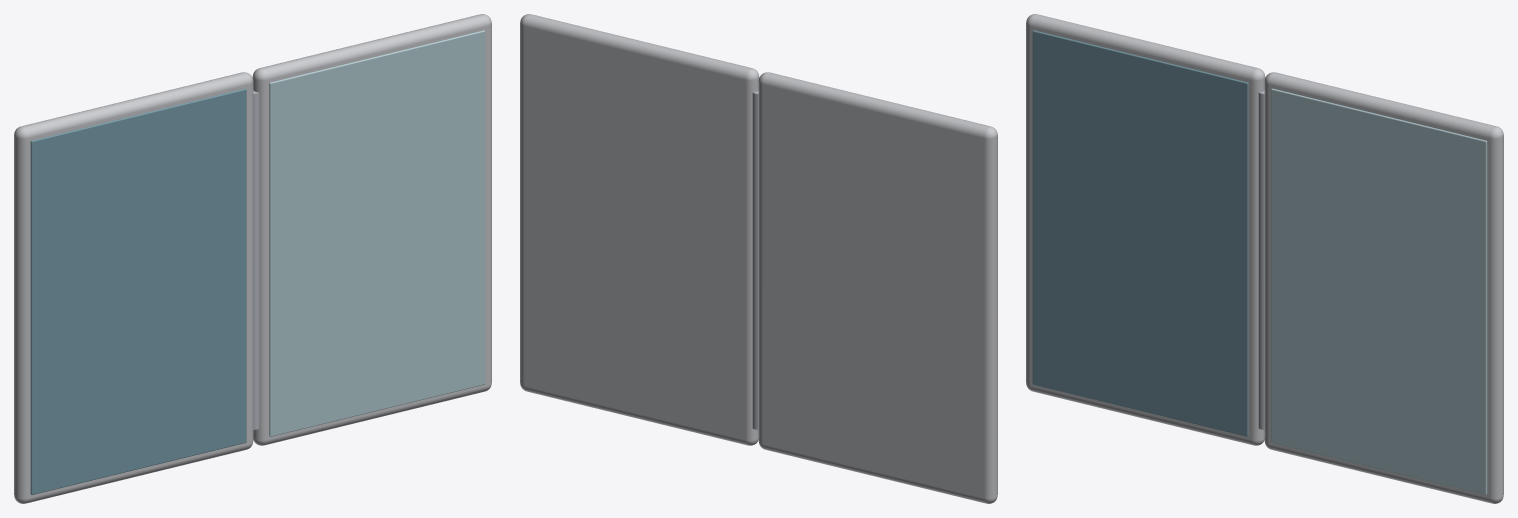
Rendered from duo-illustration.glb.
3 views of the same model, side by side, from view 1: azimuth 30°, elevation 25°; view 2: azimuth 150°, elevation 25°; view 3: azimuth 330°, elevation 25° (orthographic).
Parts seen in each view (by area): view 1: LeftDisplay, RightDisplay, LeftBody, RightBody, HingePin; view 2: LeftBody, RightBody, HingePin; view 3: LeftDisplay, RightDisplay, RightBody, LeftBody, HingePin.
Boxes of the visible parts, x1,y1,x2,y2 form: LeftDisplay: (30,88,246,494); RightDisplay: (269,30,485,436); LeftBody: (14,72,253,503); RightBody: (252,14,491,445); HingePin: (253,90,259,429); LeftBody: (758,72,997,503); RightBody: (520,14,759,445); HingePin: (752,90,758,429); LeftDisplay: (1032,30,1248,436); RightDisplay: (1271,88,1487,494); RightBody: (1264,72,1503,503); LeftBody: (1026,14,1265,445); HingePin: (1258,90,1264,429).
Size of the model in its own units: 2.71 by 2.05 by 0.101.
